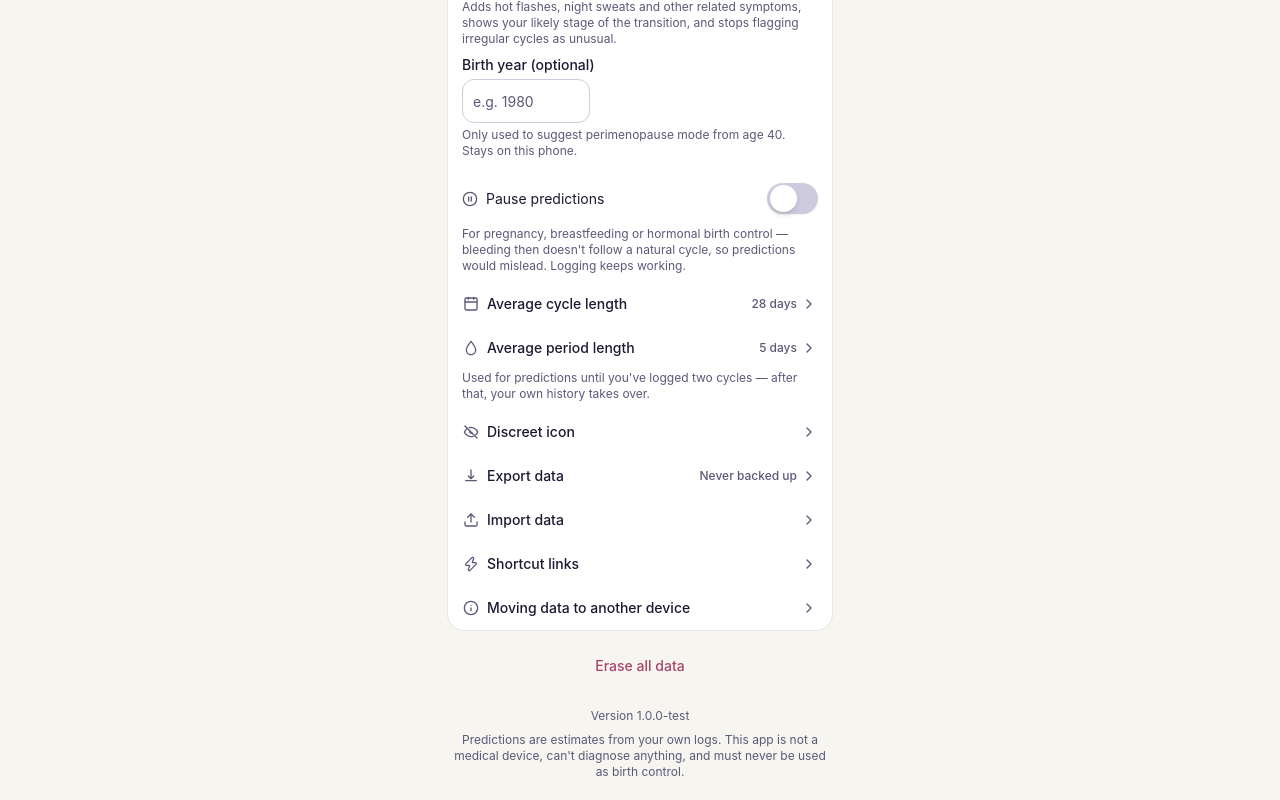
Scenario: backup bookkeeping › records when a backup was made and shows it in Settings
(page scrolled)
Expected: the text "Never backed up" is shown, [700,468,797,484]
Click the button "Export data Never backed up": (525,476) [448,454,832,498]
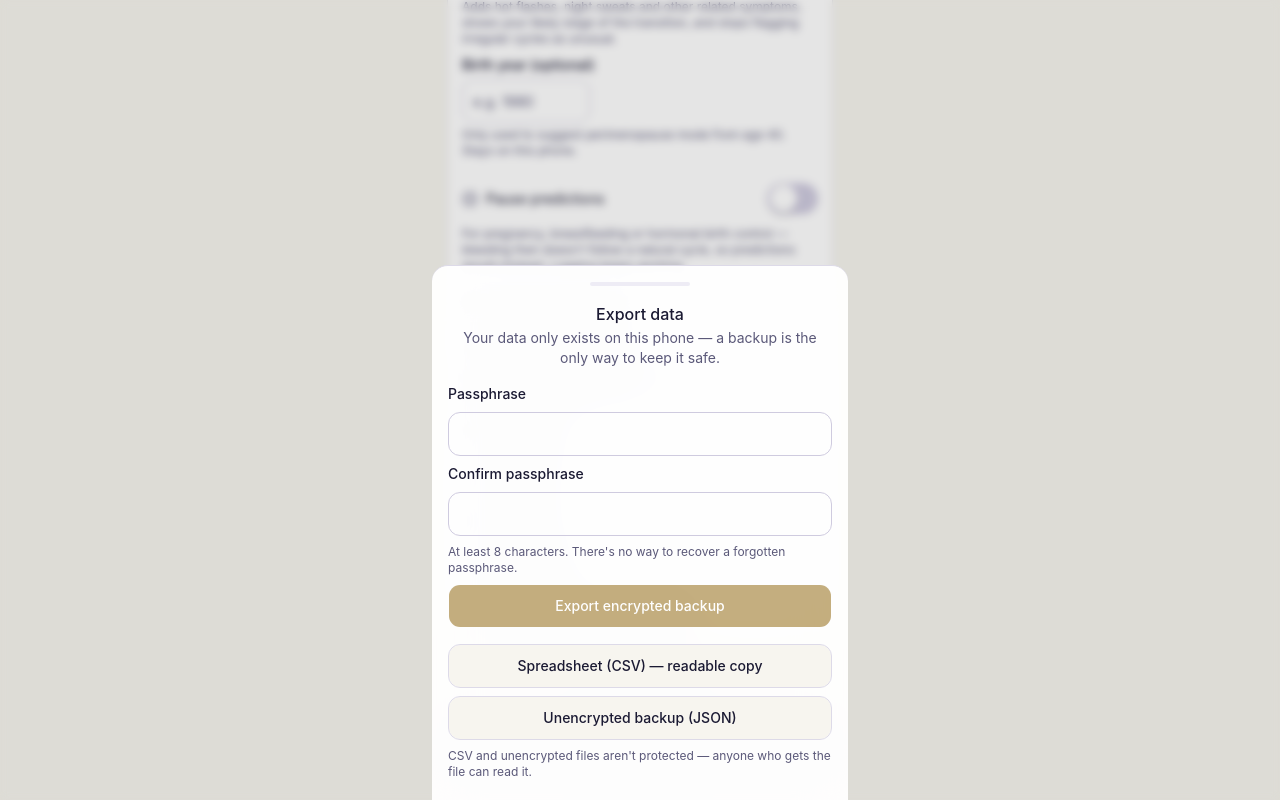
Click the button "Spreadsheet (CSV) — readable copy": (640,666) [448,644,832,688]
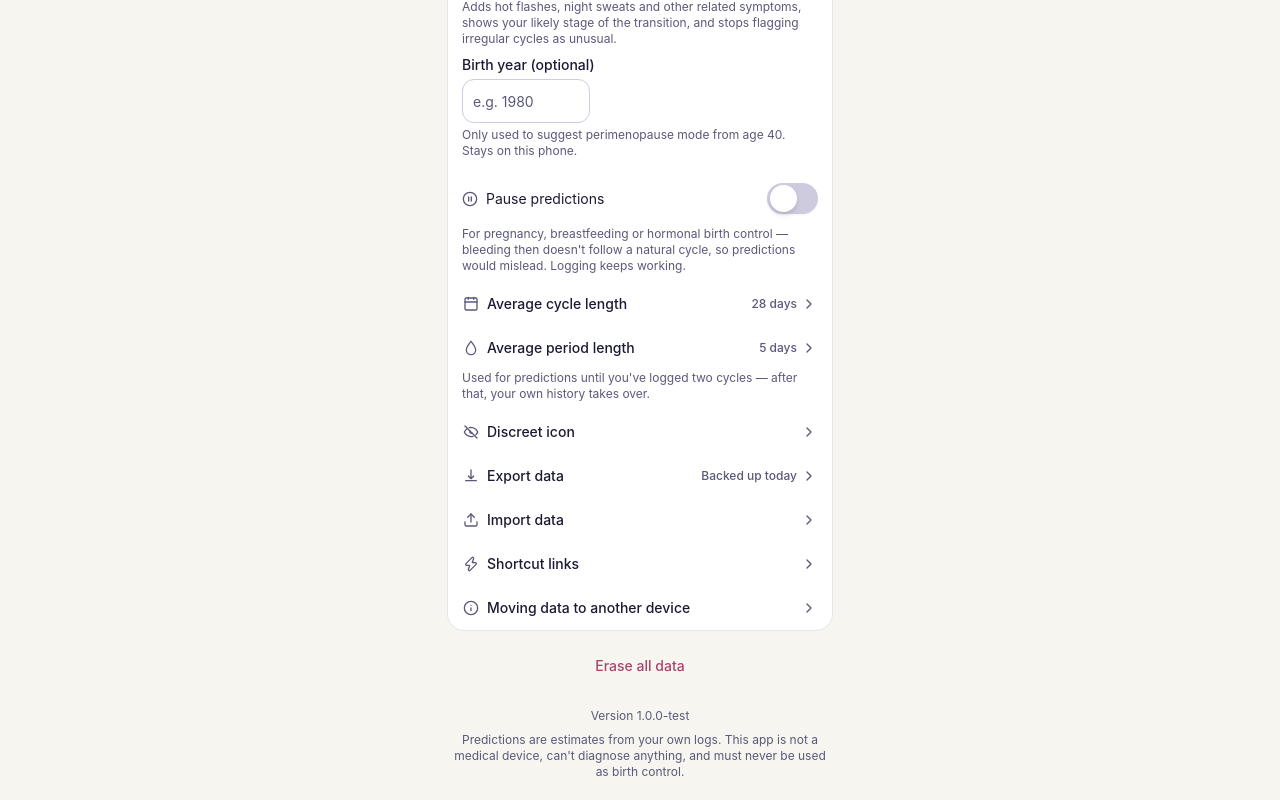
Expected: the text "Backed up today" is shown, [701,468,797,484]
